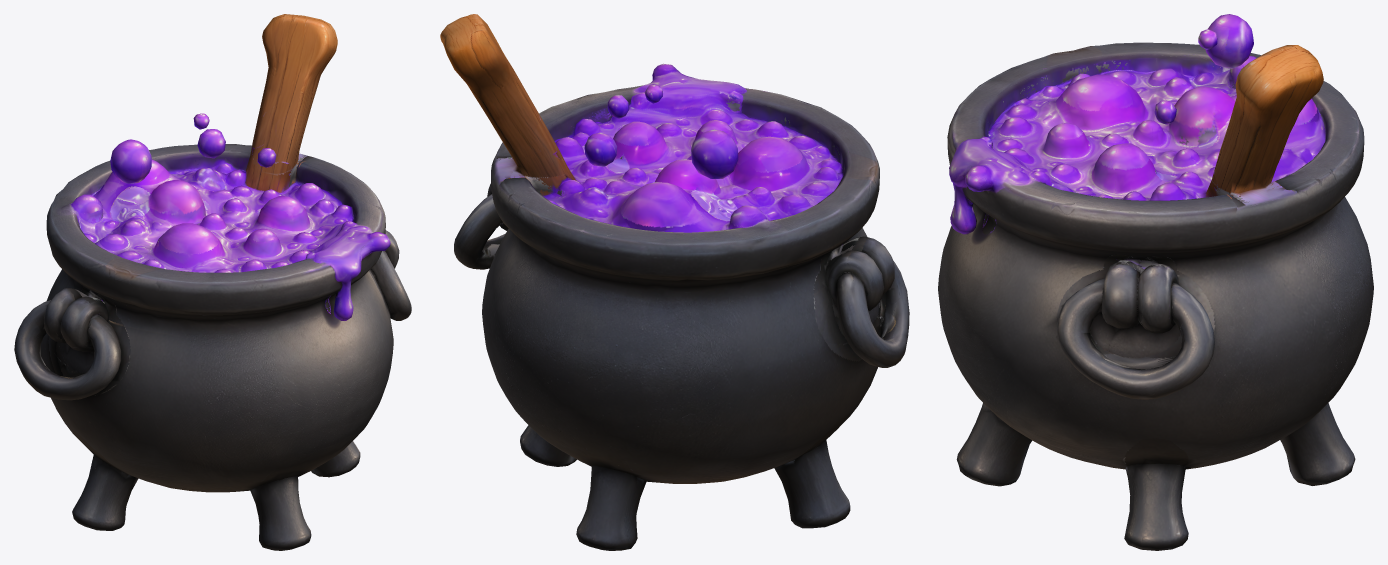
Rendered from cauldron.glb.
The picture shows the model from 3 angles, left to right: view 1: azimuth 30°, elevation 25°; view 2: azimuth 150°, elevation 25°; view 3: azimuth 270°, elevation 25°; orthographic projection. The views are drawn at different scales.
Visible parts, largest first — view 1: texture_mapping; view 2: texture_mapping; view 3: texture_mapping.
Part boxes in pixels (bbox=[...]): texture_mapping: bbox=[14, 14, 411, 550]; texture_mapping: bbox=[440, 14, 909, 550]; texture_mapping: bbox=[938, 14, 1373, 550].
Bounding box in the file's own units: 0.9496 × 1 × 0.778.
1 material, 1 textured.
